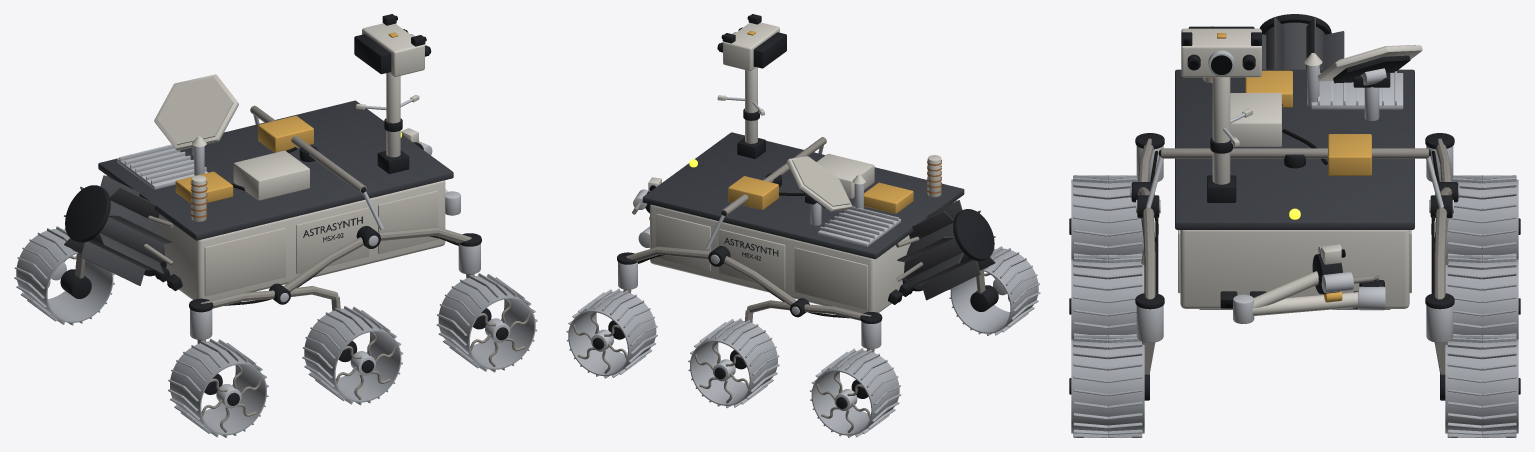
Rendered from rover.glb.
3 views of the same model, side by side, from view 1: azimuth 30°, elevation 25°; view 2: azimuth 150°, elevation 25°; view 3: azimuth 270°, elevation 25° (orthographic). The views are drawn at different scales.
Parts seen in each view (by area): view 1: body_mesh, wheel_MR_mesh, wheel_RR_mesh, wheel_FR_mesh, wheel_RL_mesh, suspension_mesh, hga_mesh, mast_head_mesh, steer_RR_mesh, steer_FR_mesh, steer_RL_mesh; view 2: body_mesh, wheel_FL_mesh, wheel_ML_mesh, wheel_RL_mesh, wheel_RR_mesh, suspension_mesh, mast_head_mesh, hga_mesh, steer_RL_mesh, steer_FL_mesh, steer_RR_mesh; view 3: body_mesh, suspension_mesh, wheel_FL_mesh, wheel_FR_mesh, wheel_ML_mesh, wheel_MR_mesh, wheel_RL_mesh, wheel_RR_mesh, mast_head_mesh, hga_mesh, steer_FL_mesh, steer_FR_mesh (+2 smaller).
Boxes of the visible parts, bbox=[...] form: body_mesh: bbox=[64, 72, 460, 300]; wheel_MR_mesh: bbox=[302, 306, 403, 405]; wheel_RR_mesh: bbox=[168, 338, 268, 437]; wheel_FR_mesh: bbox=[436, 273, 537, 372]; wheel_RL_mesh: bbox=[14, 226, 114, 325]; suspension_mesh: bbox=[201, 105, 471, 308]; hga_mesh: bbox=[154, 74, 238, 150]; mast_head_mesh: bbox=[354, 14, 431, 76]; steer_RR_mesh: bbox=[189, 298, 222, 394]; steer_FR_mesh: bbox=[458, 233, 491, 329]; steer_RL_mesh: bbox=[60, 249, 91, 298]; body_mesh: bbox=[632, 67, 995, 313]; wheel_FL_mesh: bbox=[566, 288, 657, 378]; wheel_ML_mesh: bbox=[688, 318, 779, 407]; wheel_RL_mesh: bbox=[810, 348, 901, 437]; wheel_RR_mesh: bbox=[949, 246, 1040, 335]; suspension_mesh: bbox=[626, 137, 871, 320]; mast_head_mesh: bbox=[717, 14, 786, 70]; hga_mesh: bbox=[786, 156, 852, 211]; steer_RL_mesh: bbox=[851, 312, 882, 398]; steer_FL_mesh: bbox=[608, 252, 637, 339]; steer_RR_mesh: bbox=[970, 267, 998, 311]; body_mesh: bbox=[1175, 14, 1414, 323]; suspension_mesh: bbox=[1130, 138, 1459, 299]; wheel_FL_mesh: bbox=[1445, 334, 1520, 437]; wheel_FR_mesh: bbox=[1069, 334, 1144, 437]; wheel_ML_mesh: bbox=[1445, 255, 1520, 339]; wheel_MR_mesh: bbox=[1069, 255, 1144, 339]; wheel_RL_mesh: bbox=[1446, 175, 1520, 259]; wheel_RR_mesh: bbox=[1069, 175, 1143, 259]; mast_head_mesh: bbox=[1181, 26, 1261, 77]; hga_mesh: bbox=[1317, 44, 1422, 85]; steer_FL_mesh: bbox=[1425, 293, 1454, 400]; steer_FR_mesh: bbox=[1135, 293, 1164, 400].
Size of the model in its own units: 2.88 by 2.26 by 2.46.
